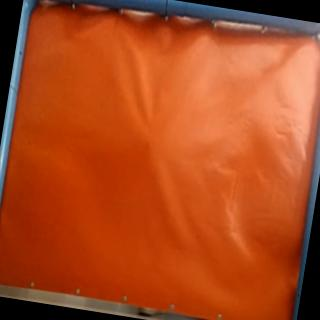Hit-hRxx: (142, 132, 157, 148)
